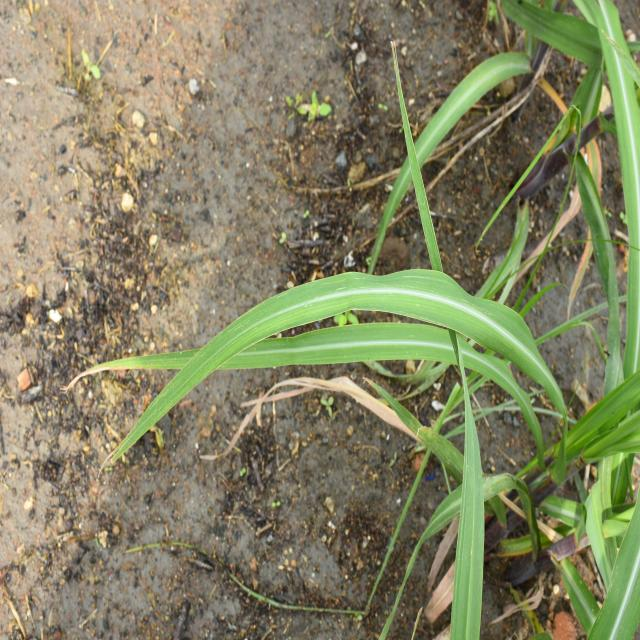Sugarcane: (64, 260, 574, 480)
